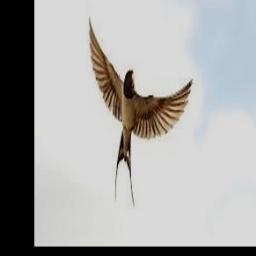Swallow: (88, 16, 192, 208)
